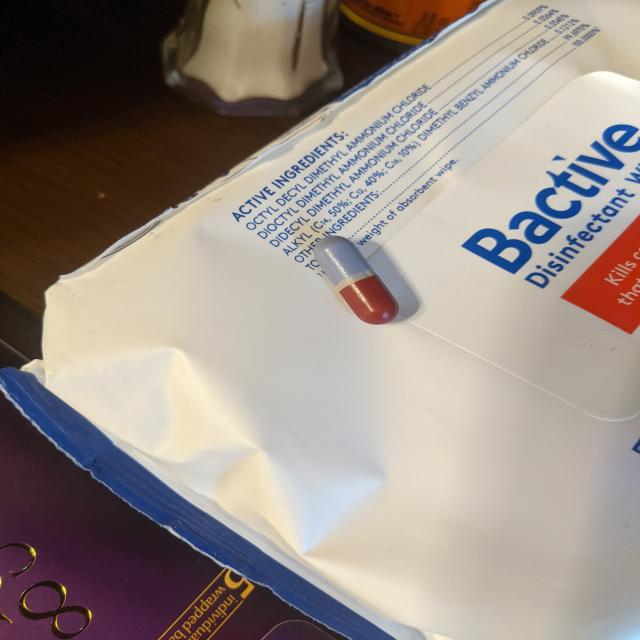non-organic waste: (312, 234, 401, 326)
